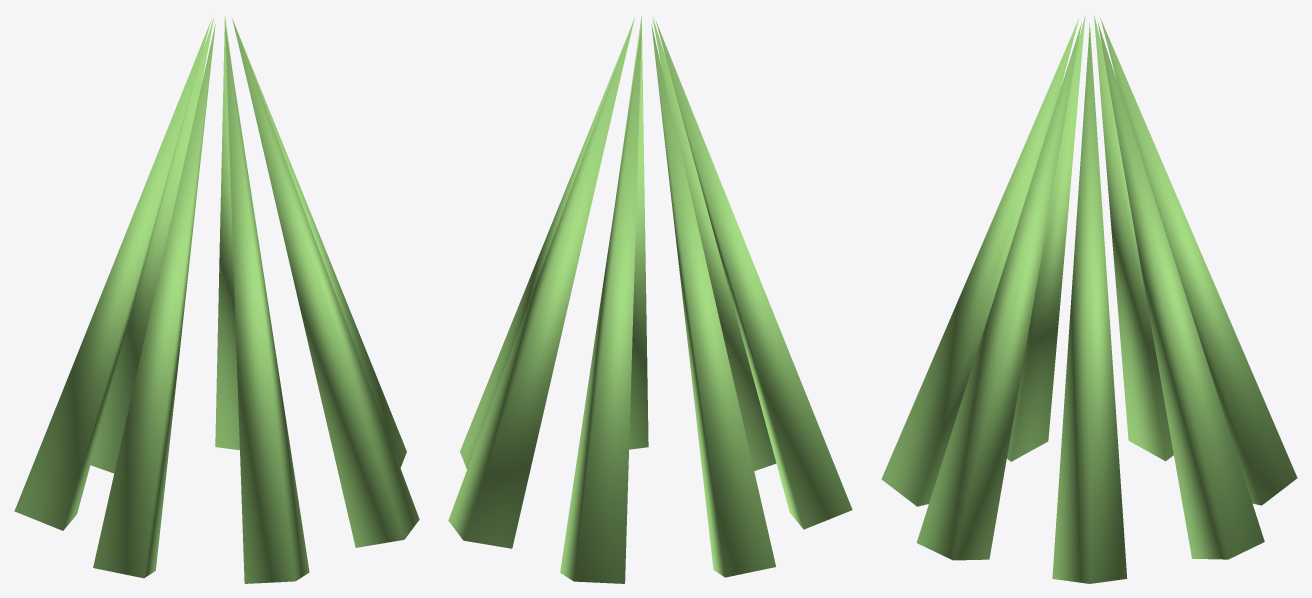
The model's file is grass.glb.
3 renders of one model, left to right at view 1: azimuth 30°, elevation 25°; view 2: azimuth 150°, elevation 25°; view 3: azimuth 270°, elevation 25°, orthographic.
Visible parts, largest first — view 1: Grass; view 2: Grass; view 3: Grass.
Part boxes in pixels (left/top/right/bottom): Grass: left=14, top=16, right=419, bottom=583; Grass: left=448, top=16, right=852, bottom=583; Grass: left=881, top=15, right=1297, bottom=583.
Size of the model in its own units: 0.6533 by 0.8777 by 0.6673.
